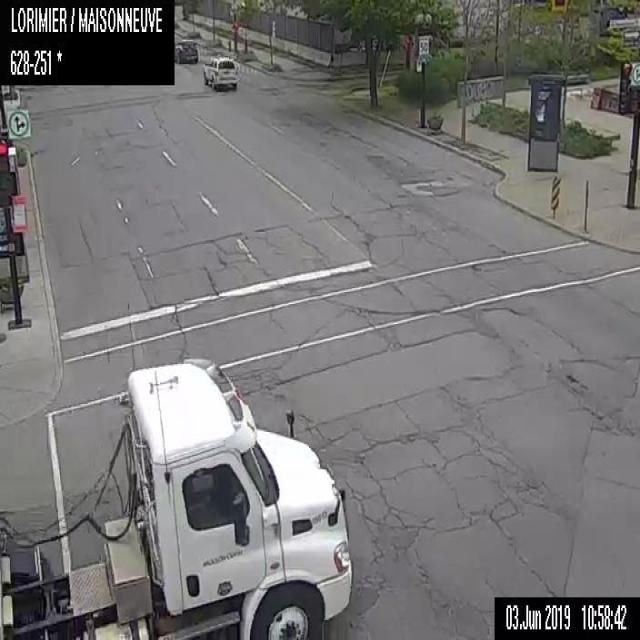vehicle: (0, 354, 352, 638), (203, 53, 236, 88), (174, 38, 198, 66)
